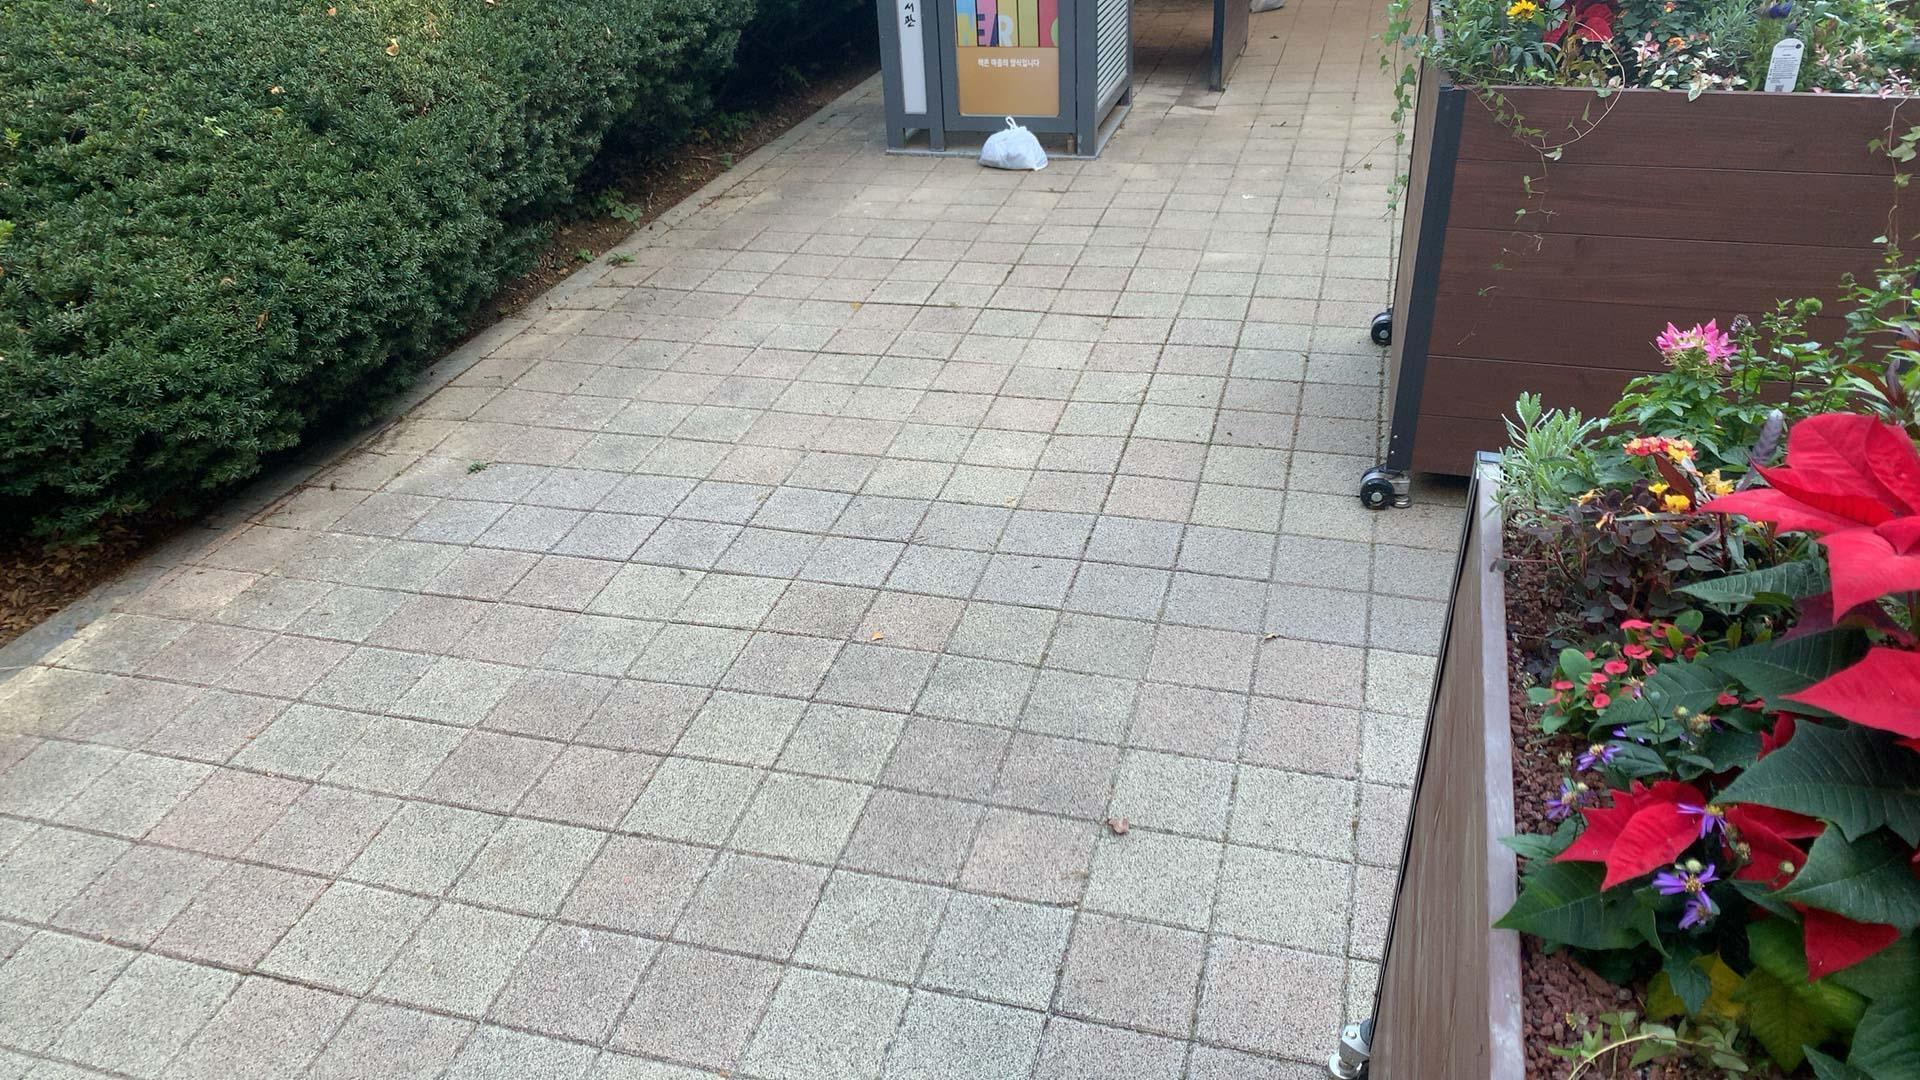white_bag: (972, 113, 1051, 175)
